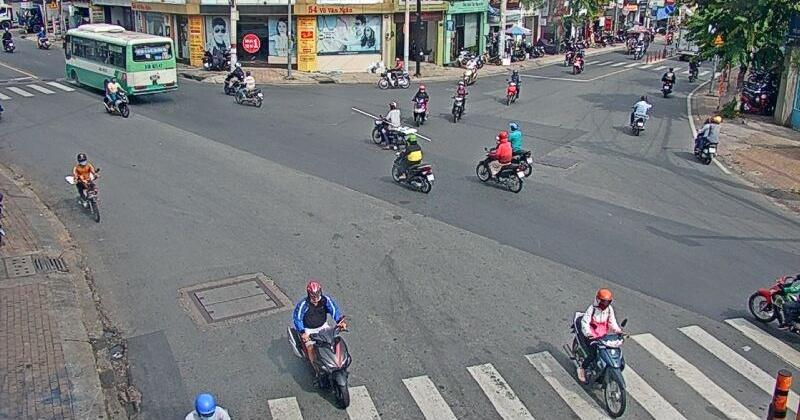xe buyt: (64, 23, 176, 94)
xe may: (562, 288, 628, 417), (288, 280, 350, 408), (746, 272, 800, 333), (475, 131, 523, 193), (390, 134, 434, 194), (72, 152, 100, 222), (371, 101, 407, 145), (102, 76, 130, 118), (233, 70, 262, 107), (412, 85, 428, 127), (451, 81, 465, 123)
